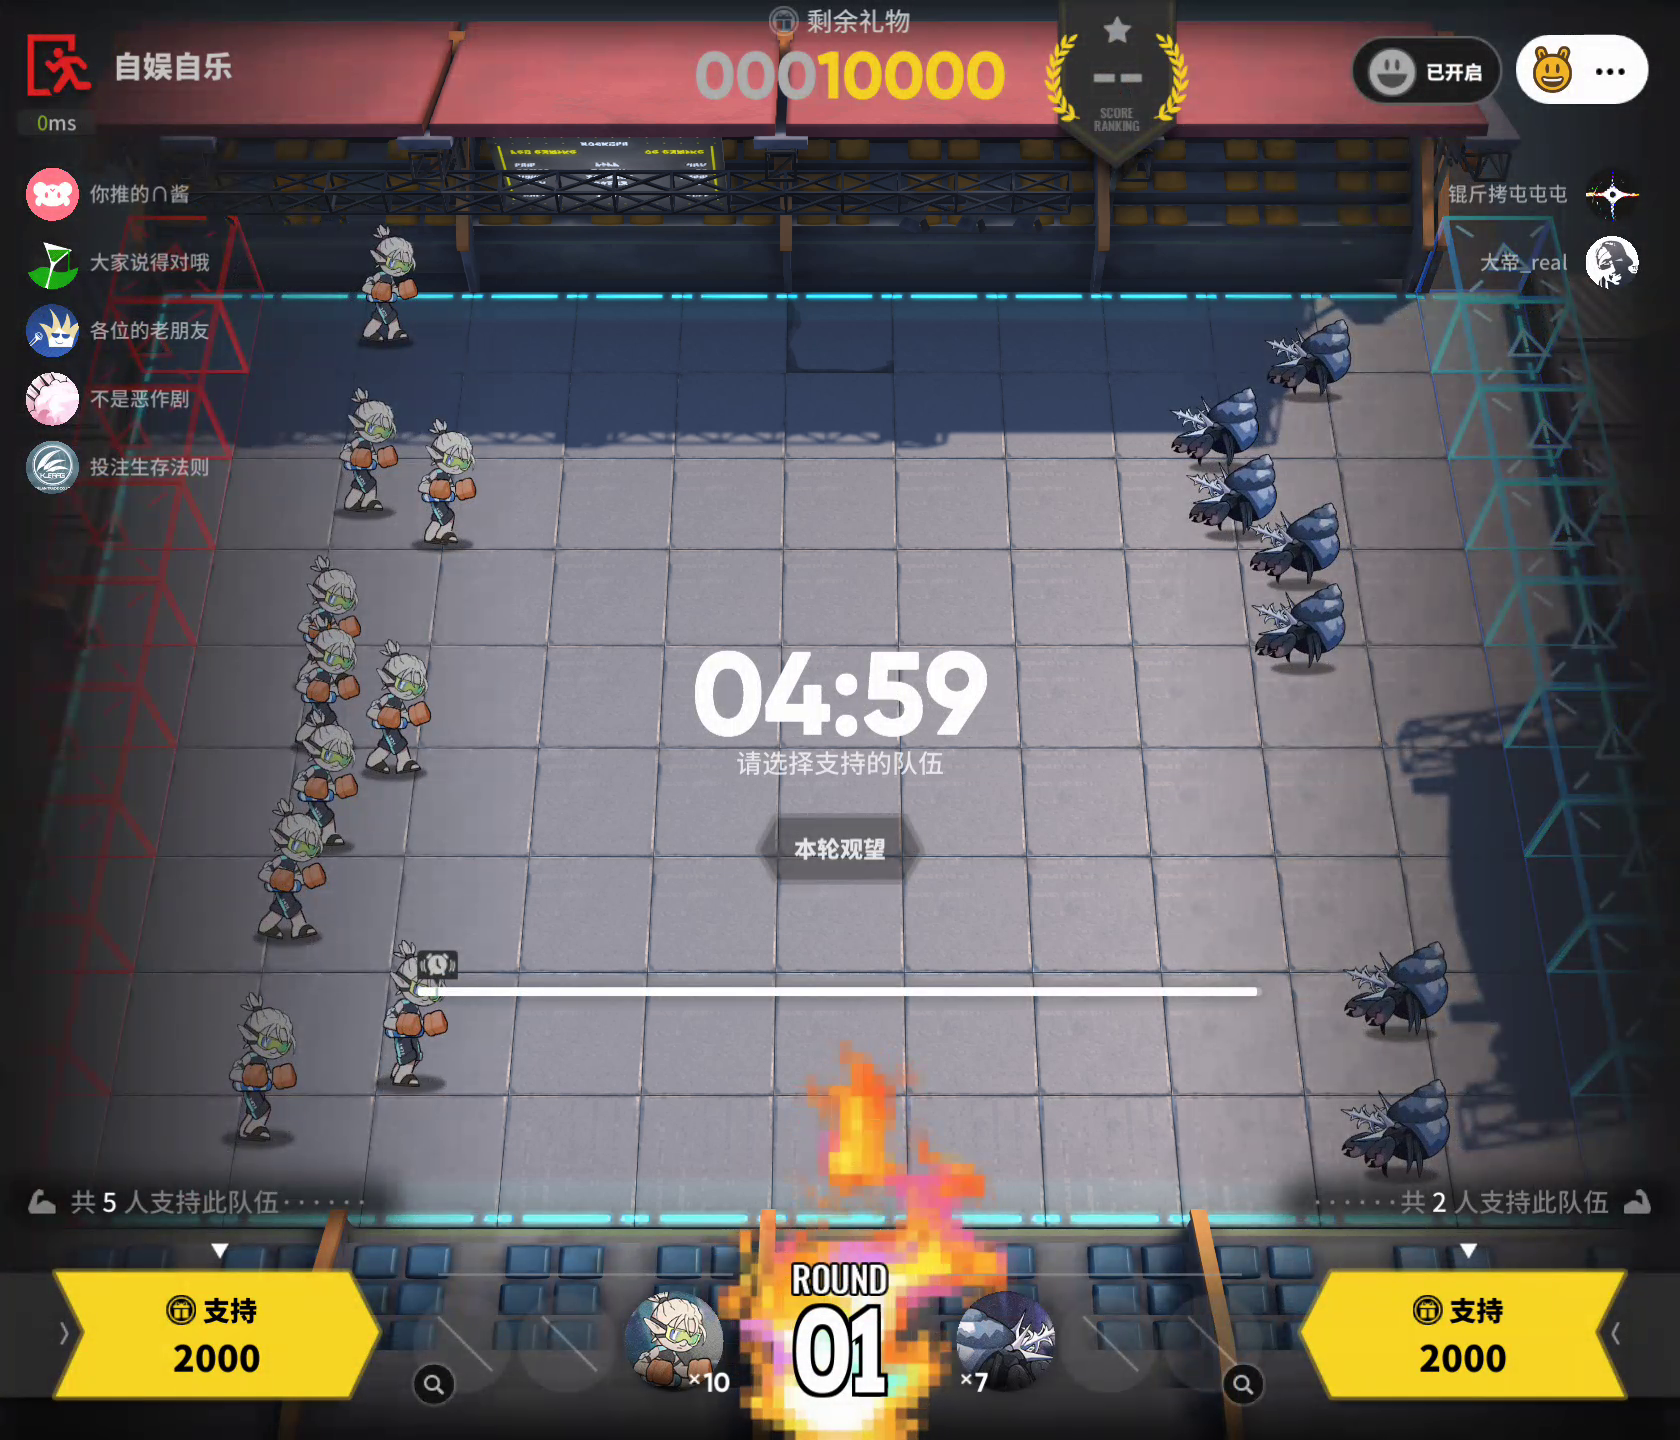小寄居蟹: (1339, 1073, 1466, 1194), (1341, 921, 1460, 1044), (957, 1281, 1066, 1391), (1246, 490, 1367, 580), (1243, 573, 1350, 671), (1157, 387, 1270, 471), (1266, 314, 1363, 406), (1191, 450, 1284, 537)
拳击宗师: (371, 926, 466, 1091), (254, 793, 339, 950), (223, 984, 300, 1141), (364, 629, 440, 787), (289, 704, 366, 859), (621, 1284, 730, 1391), (291, 621, 371, 761), (353, 216, 437, 349), (331, 381, 407, 529), (401, 414, 480, 549), (306, 547, 374, 669)
